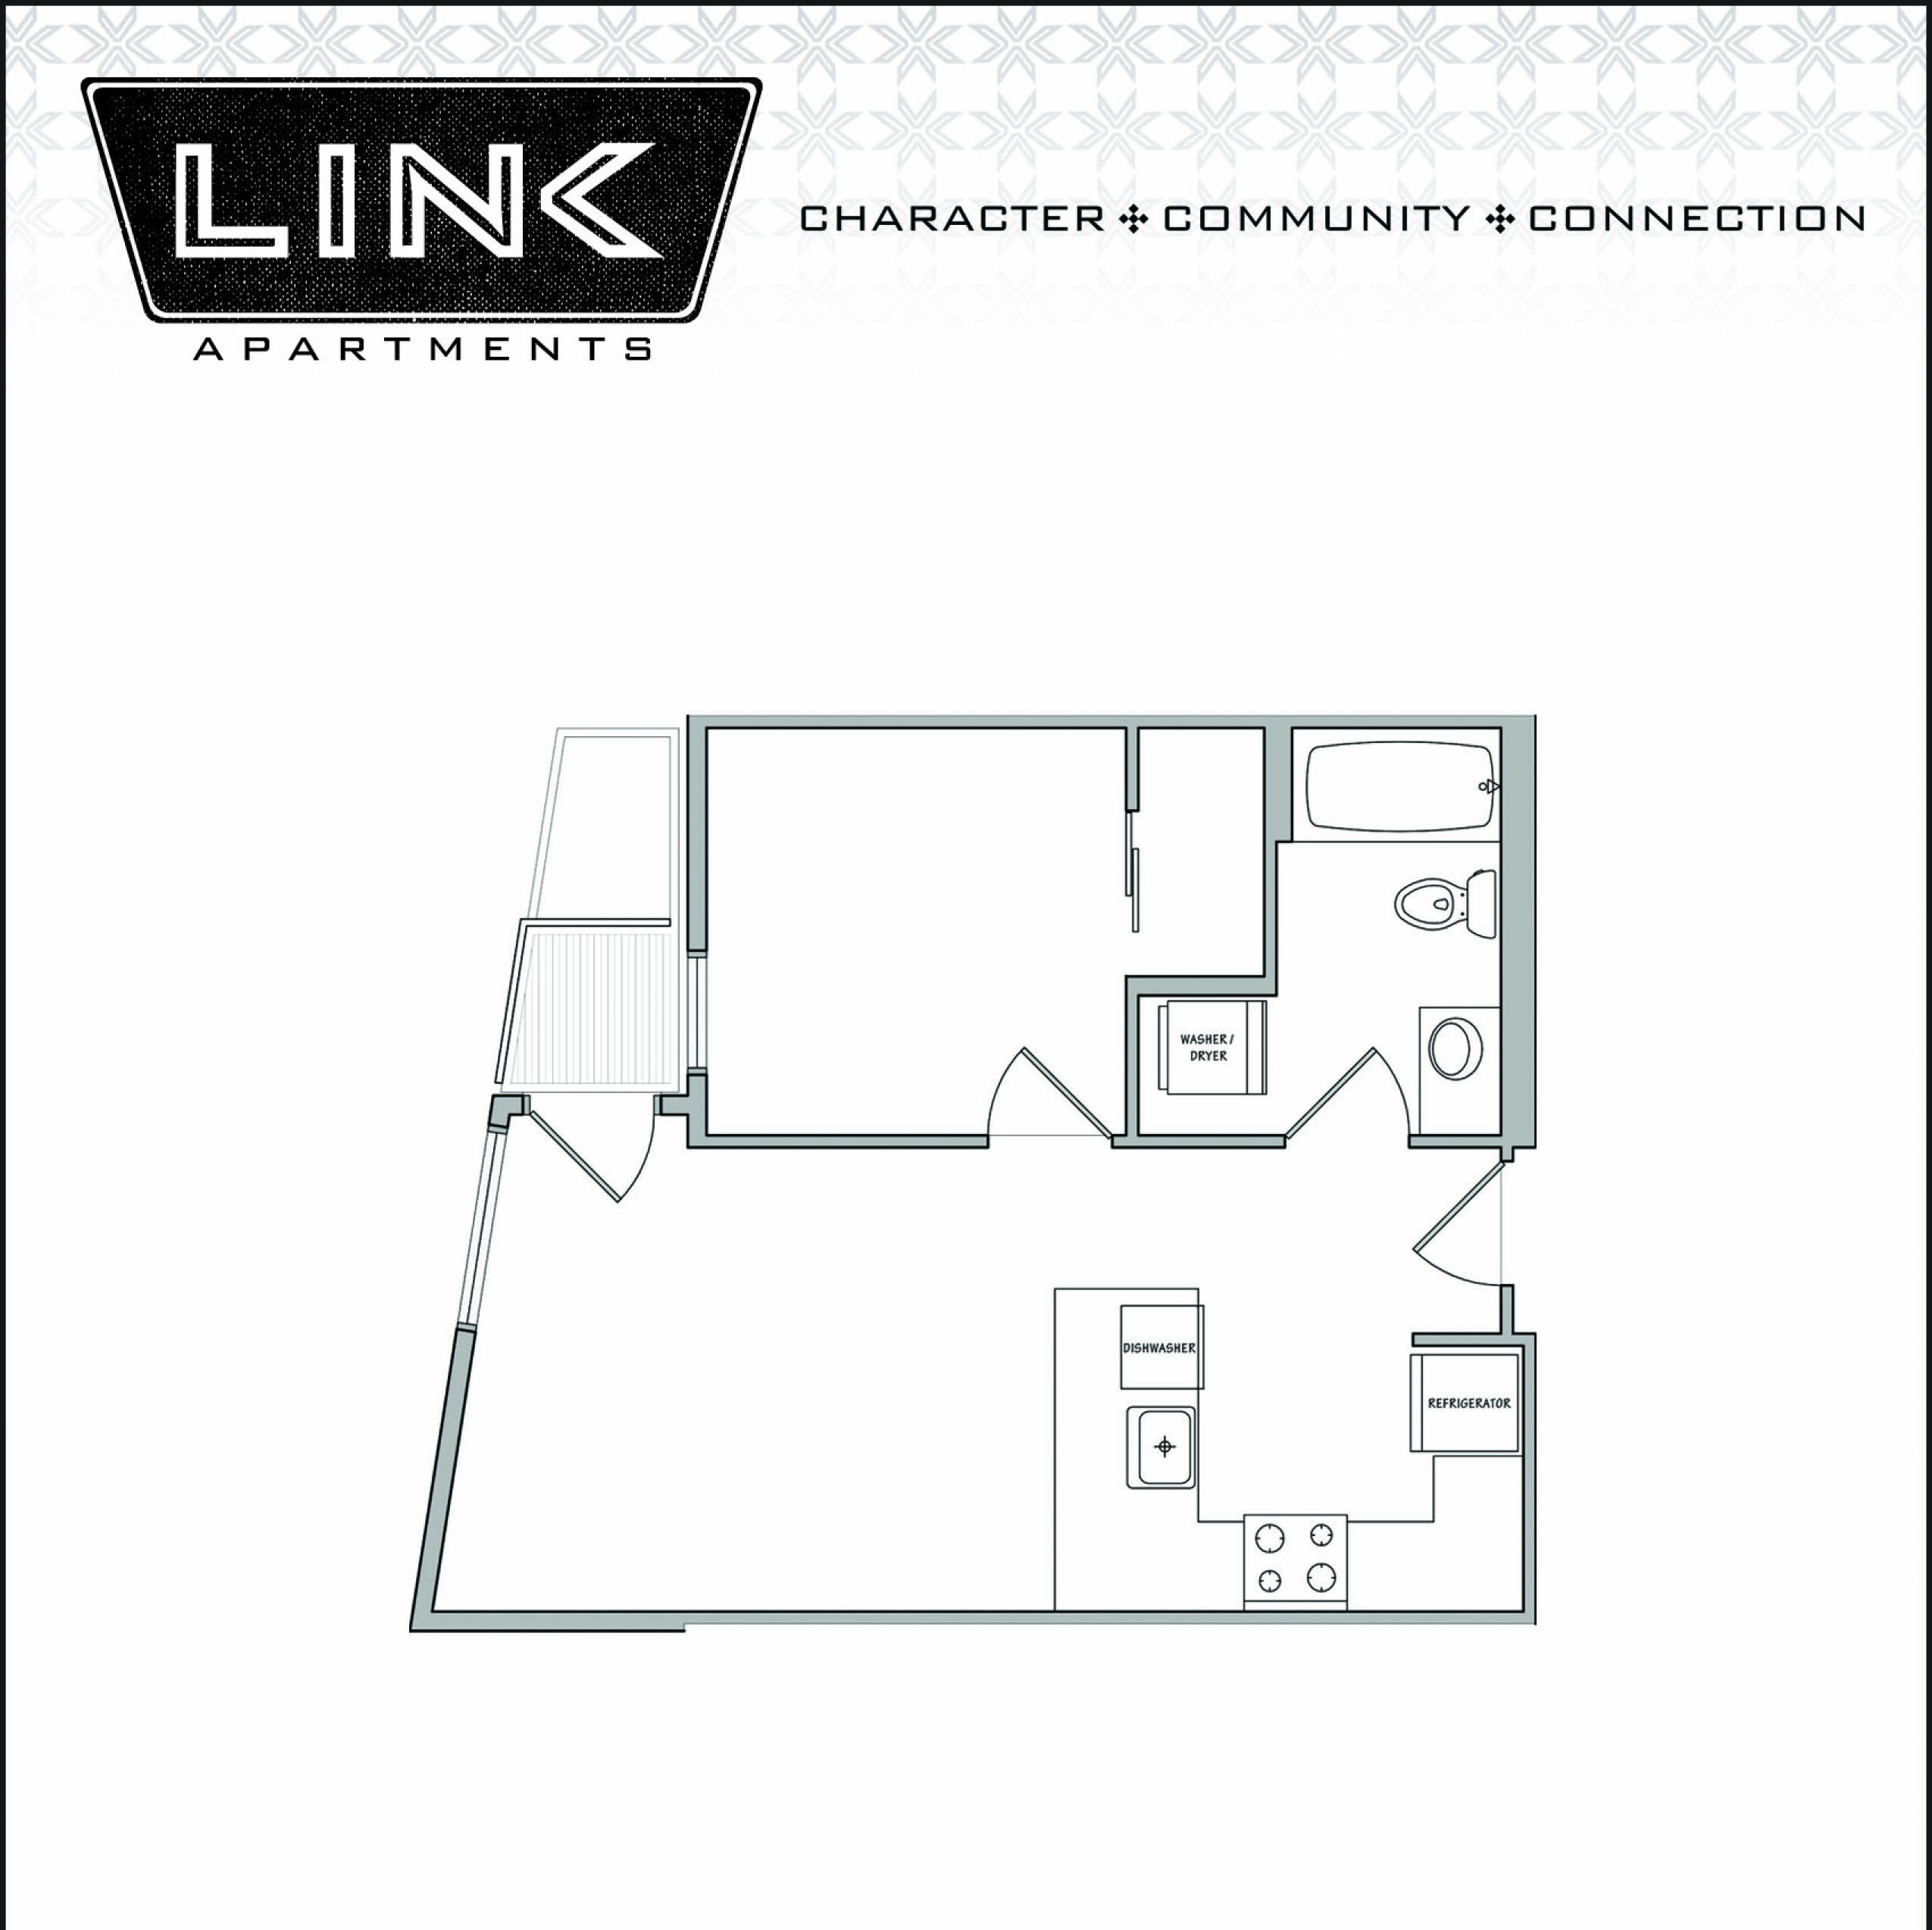door: (1388, 1159, 1504, 1287), (1285, 1034, 1411, 1147), (988, 1034, 1112, 1147), (530, 1103, 656, 1214)
